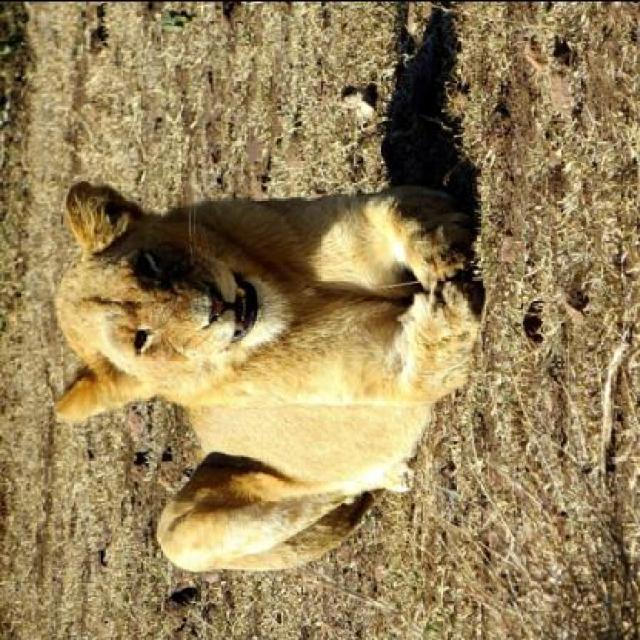Lion: (38, 140, 517, 585)
